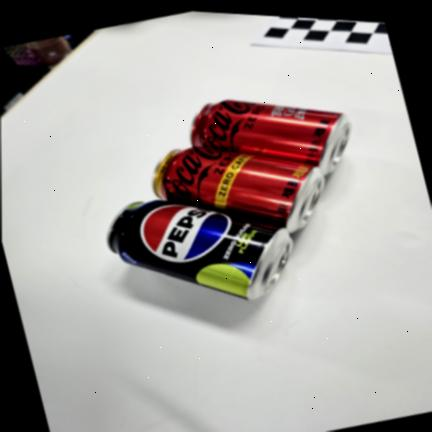can_coke_zero: (149, 143, 328, 233), (188, 97, 353, 174)
can_pepsi_zero: (105, 196, 296, 298)
